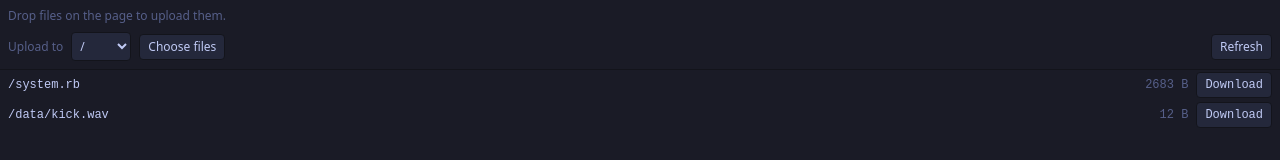
Test: FilesPanel › reports a download of a file that is no longer there
This screenshot has width=1280, height=160.
Click the button "Download" in the row of "/system.rb" at (1234, 85), box [1196,72,1272,98]
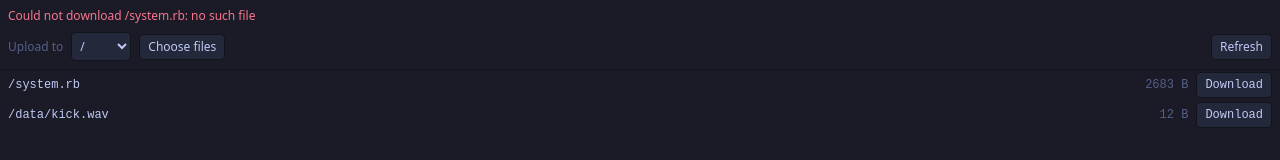
Expected: the text "Could not download /system.rb: no such file" is shown, [8,7,256,24]
